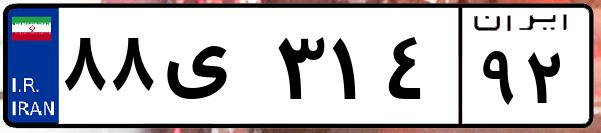1: (330, 28, 385, 110)
2: (525, 38, 570, 115)
3: (270, 28, 330, 110)
4: (385, 28, 445, 110)
8: (57, 26, 110, 100), (110, 28, 158, 98)
9: (475, 38, 525, 113)
ی: (158, 20, 270, 120)
